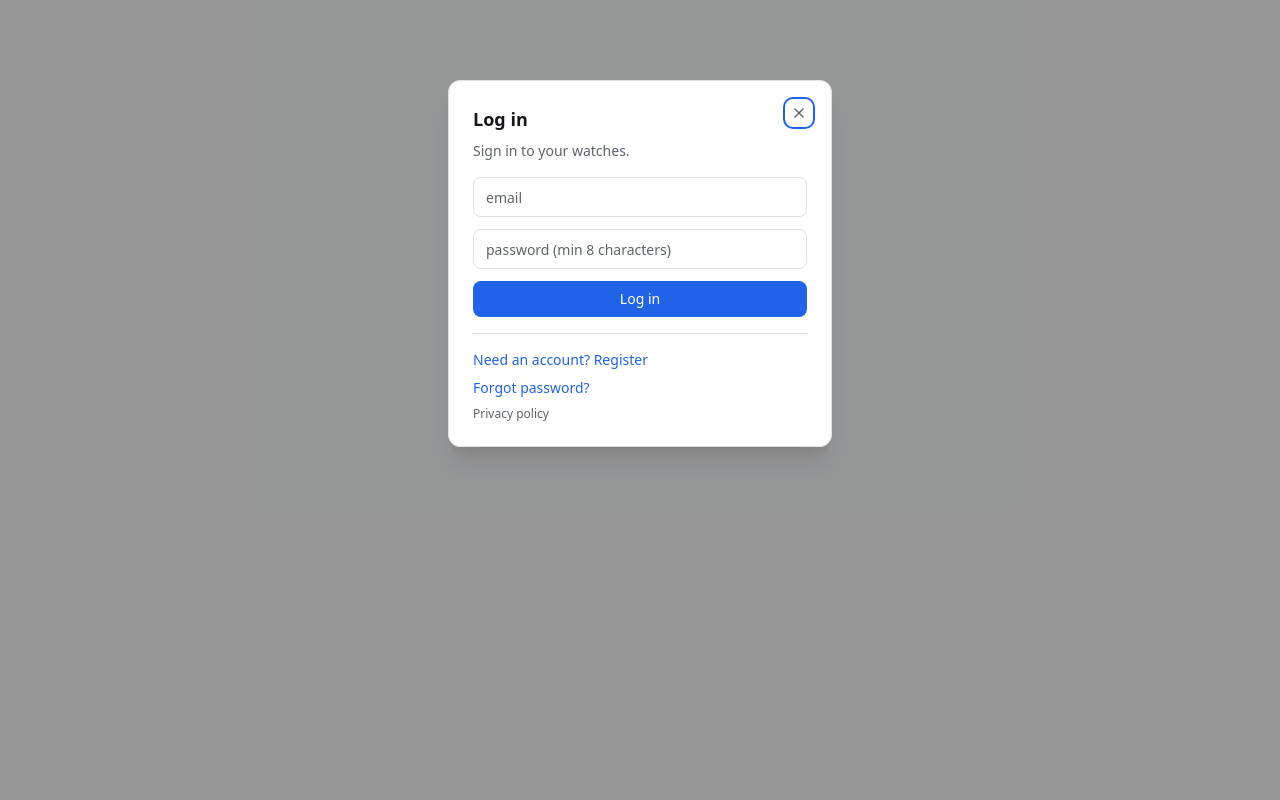
Scenario: Login — signing in › shows the server's message and does not authenticate on failure
The width and height of the screenshot is (1280, 800).
Type "u@example.test" into the field with placeholder "email" at coordinates (640, 197), box [473,177,807,217]
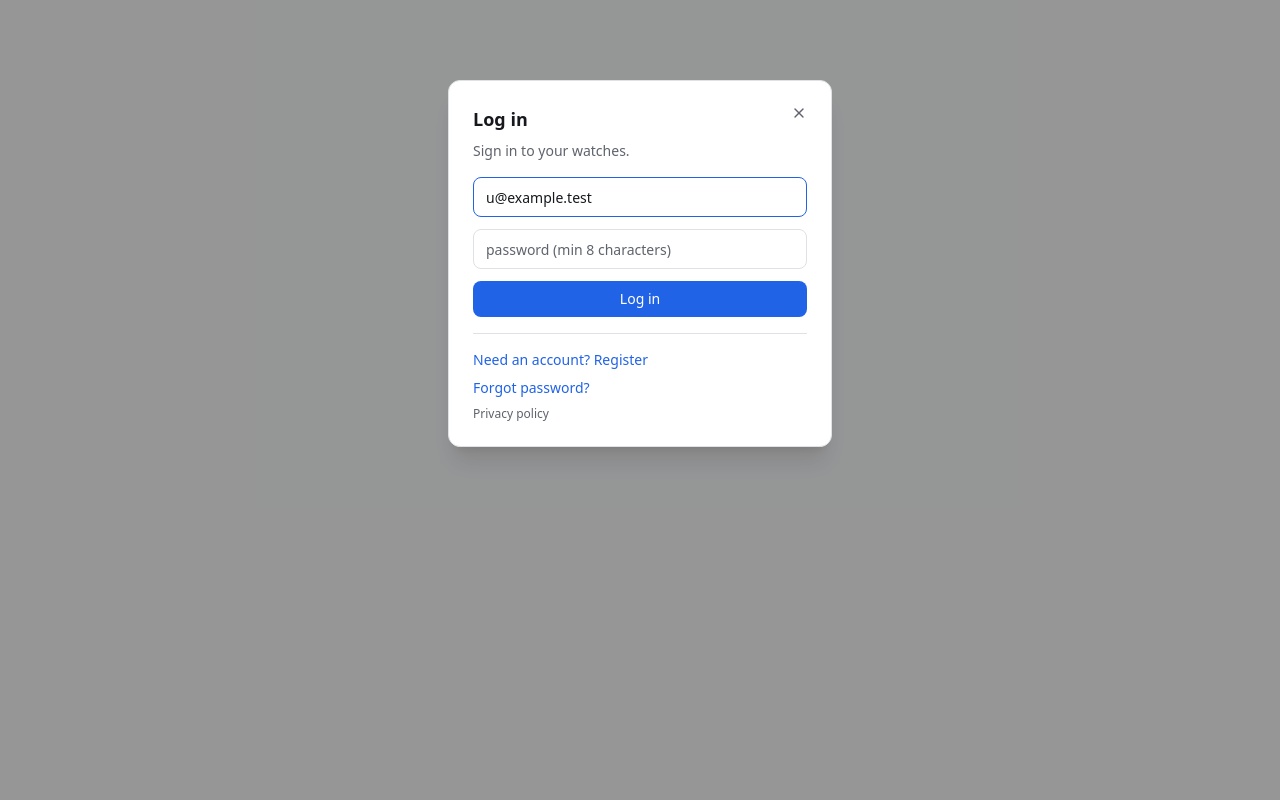
Type "wrongpassword" into the password field with placeholder "password (min 8 characters)" at coordinates (640, 249), box [473,229,807,269]
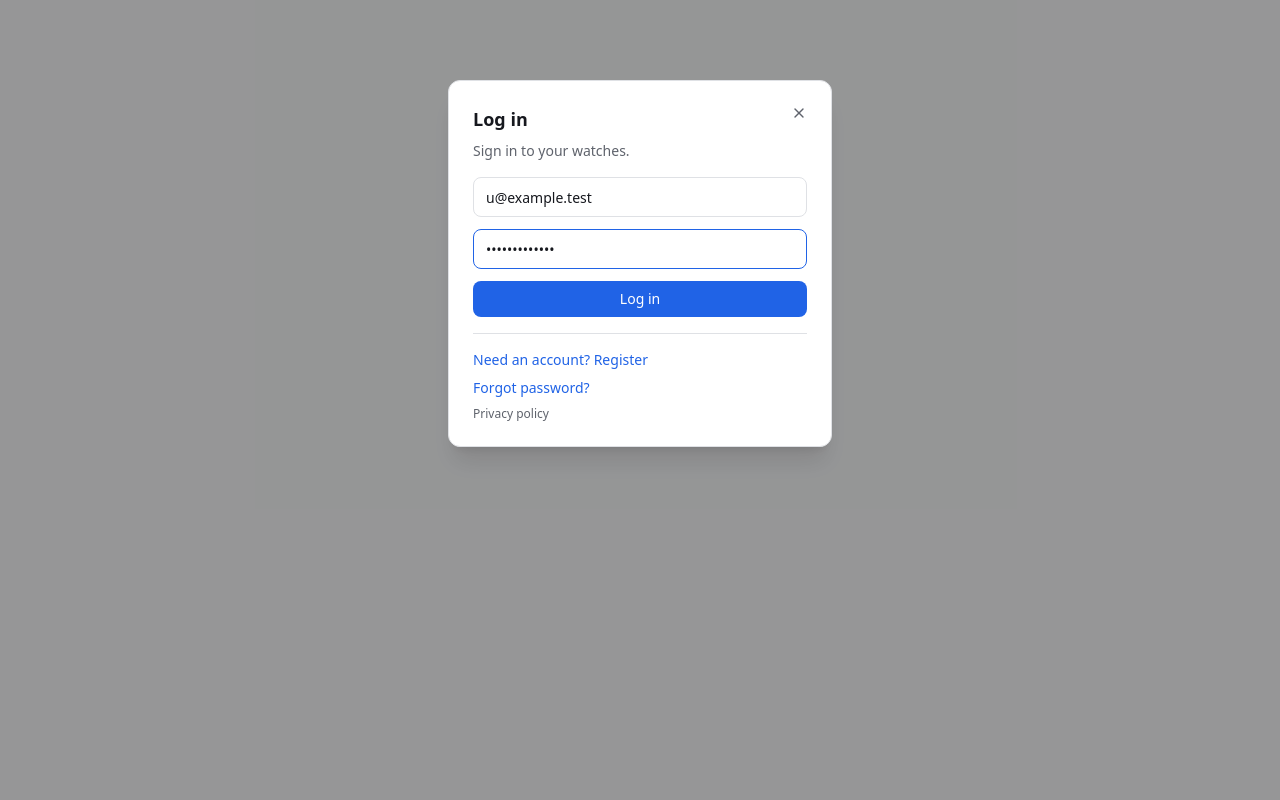
Click the button "Log in" at coordinates (640, 299), box [473,281,807,317]
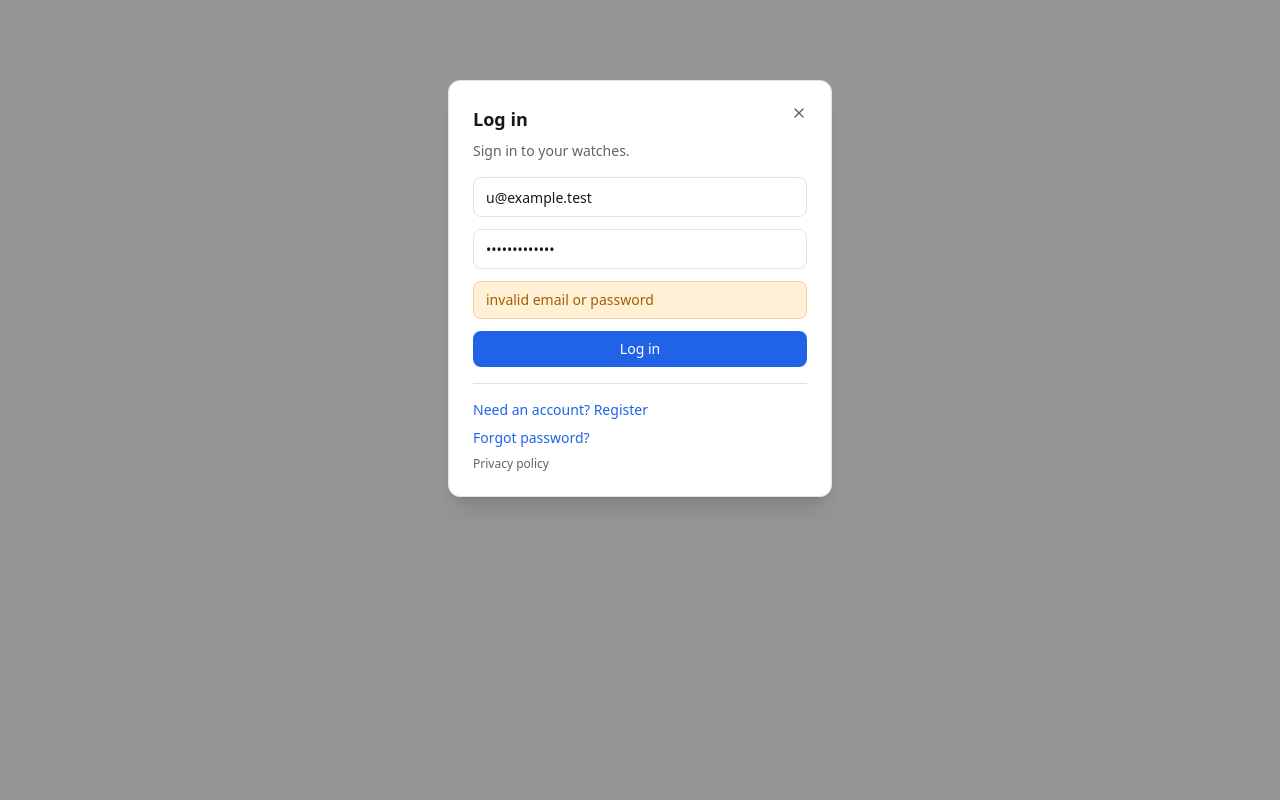
Check: the text "invalid email or password" is shown, box [473,281,807,319]
